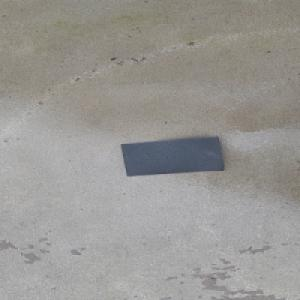PaintChip: (121, 136, 224, 176)
